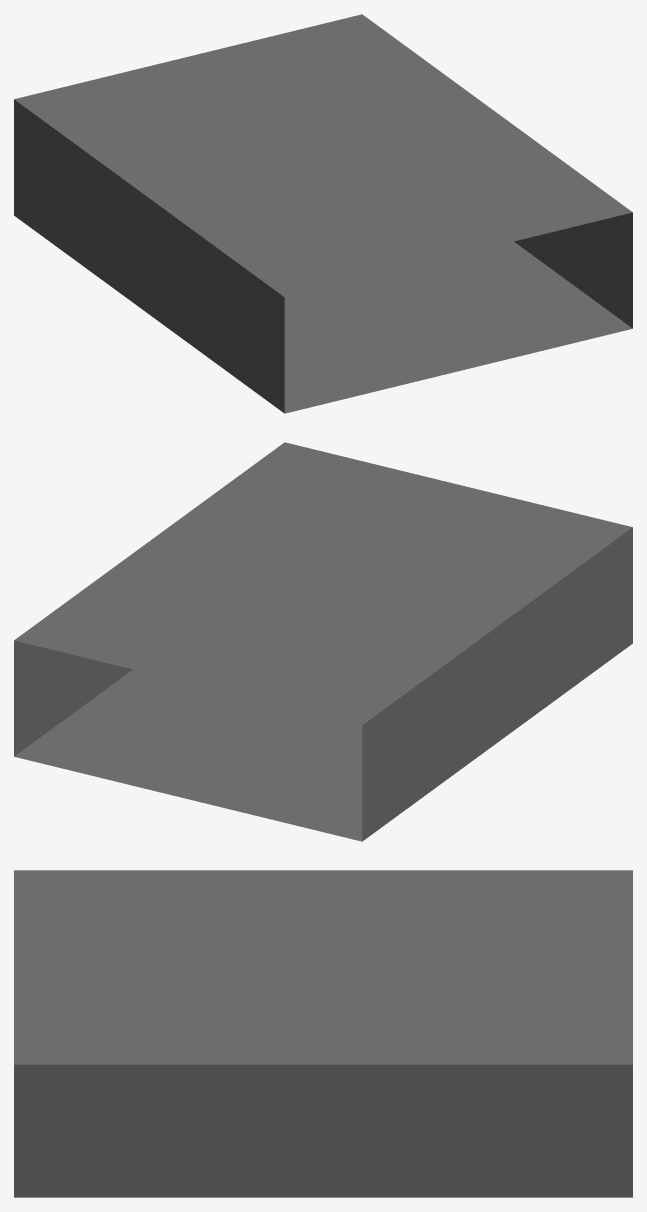
The model's file is Armchair_011_Part_01.fbx.
3 renders of one model, top to bottom at view 1: azimuth 30°, elevation 25°; view 2: azimuth 150°, elevation 25°; view 3: azimuth 270°, elevation 25°, orthographic. The views are drawn at different scales.
Parts seen in each view (by area): view 1: Armchair_011_Part_01; view 2: Armchair_011_Part_01; view 3: Armchair_011_Part_01.
Part boxes in pixels (x1,y1,x2,y2): Armchair_011_Part_01: [14, 14, 632, 413]; Armchair_011_Part_01: [14, 442, 632, 841]; Armchair_011_Part_01: [14, 870, 632, 1197].
Bounding box in the file's own units: 12.47 × 16.8 × 3.98.
